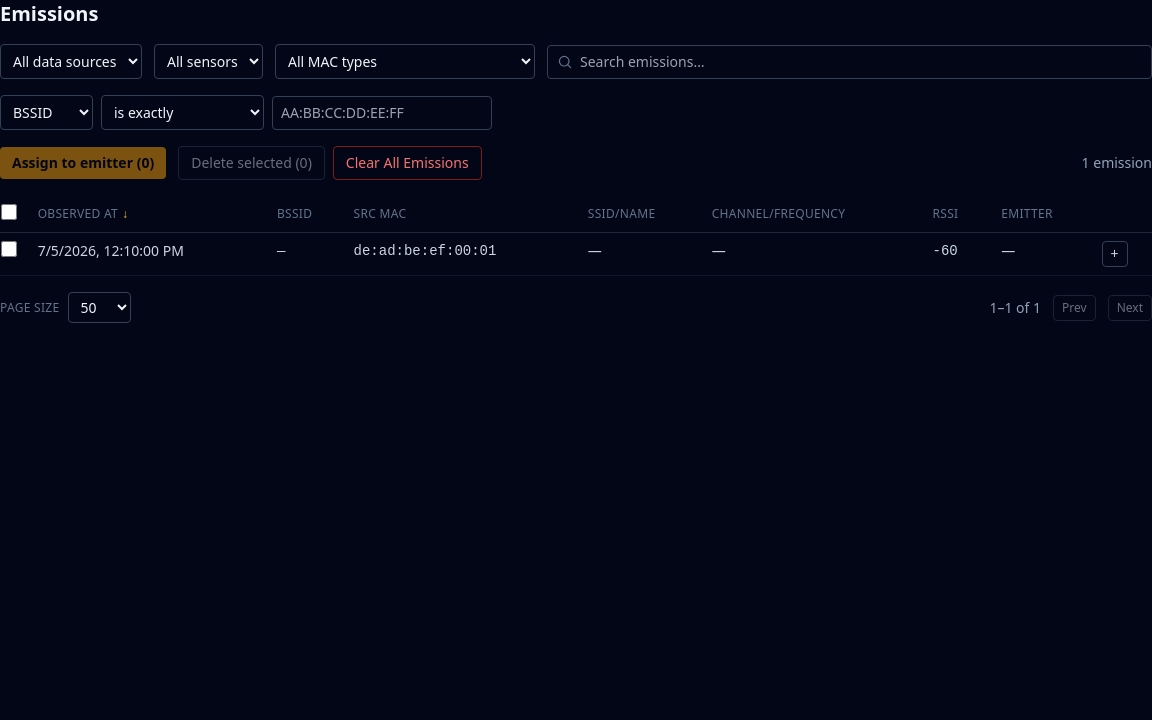
Test: the per-row "+" on a probe-request emission pre-fills src_mac eq <src_mac>
Expected: the row with test id "emission-row-e3" is shown, [0,232,1151,276]
Click the button named "Quick-assign emission e3 to emitter".
click(1115, 254)  # box [1102,241,1128,267]
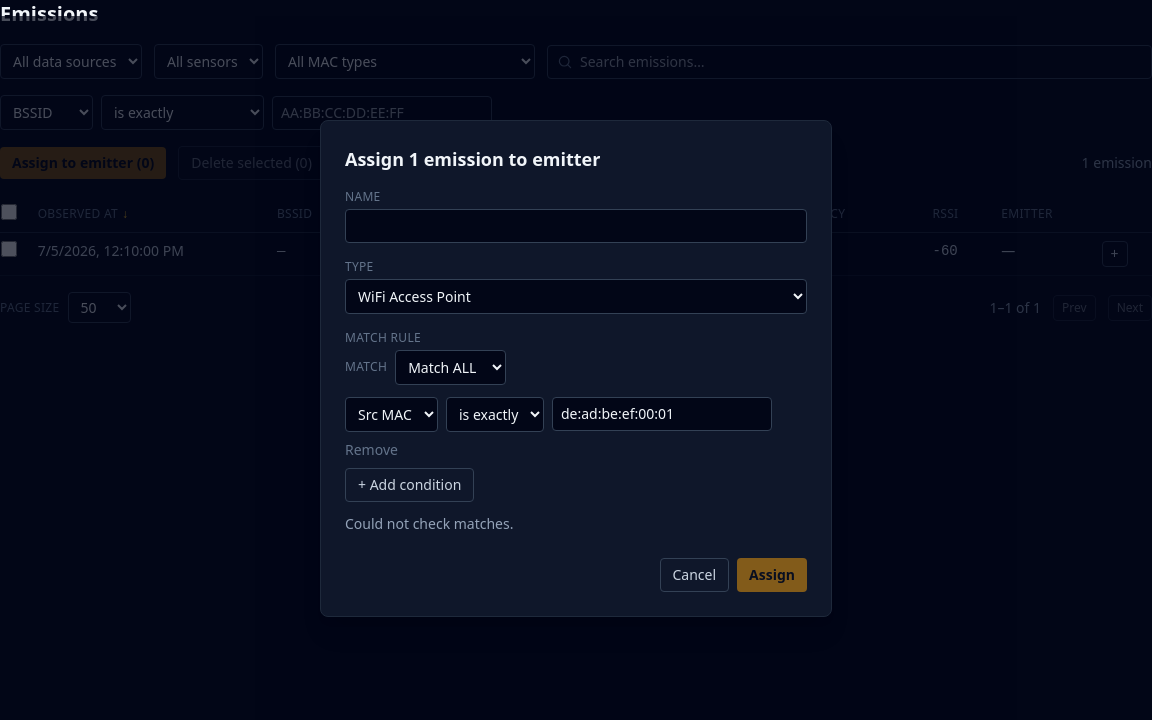
Now the 1st dropdown named "field" shows "Src MAC", box [345,396,438,432]
Now the 2nd dropdown named "operator" shows "is exactly", box [446,396,544,432]
Now the field named "value" holds "de:ad:be:ef:00:01", box [552,397,772,431]
